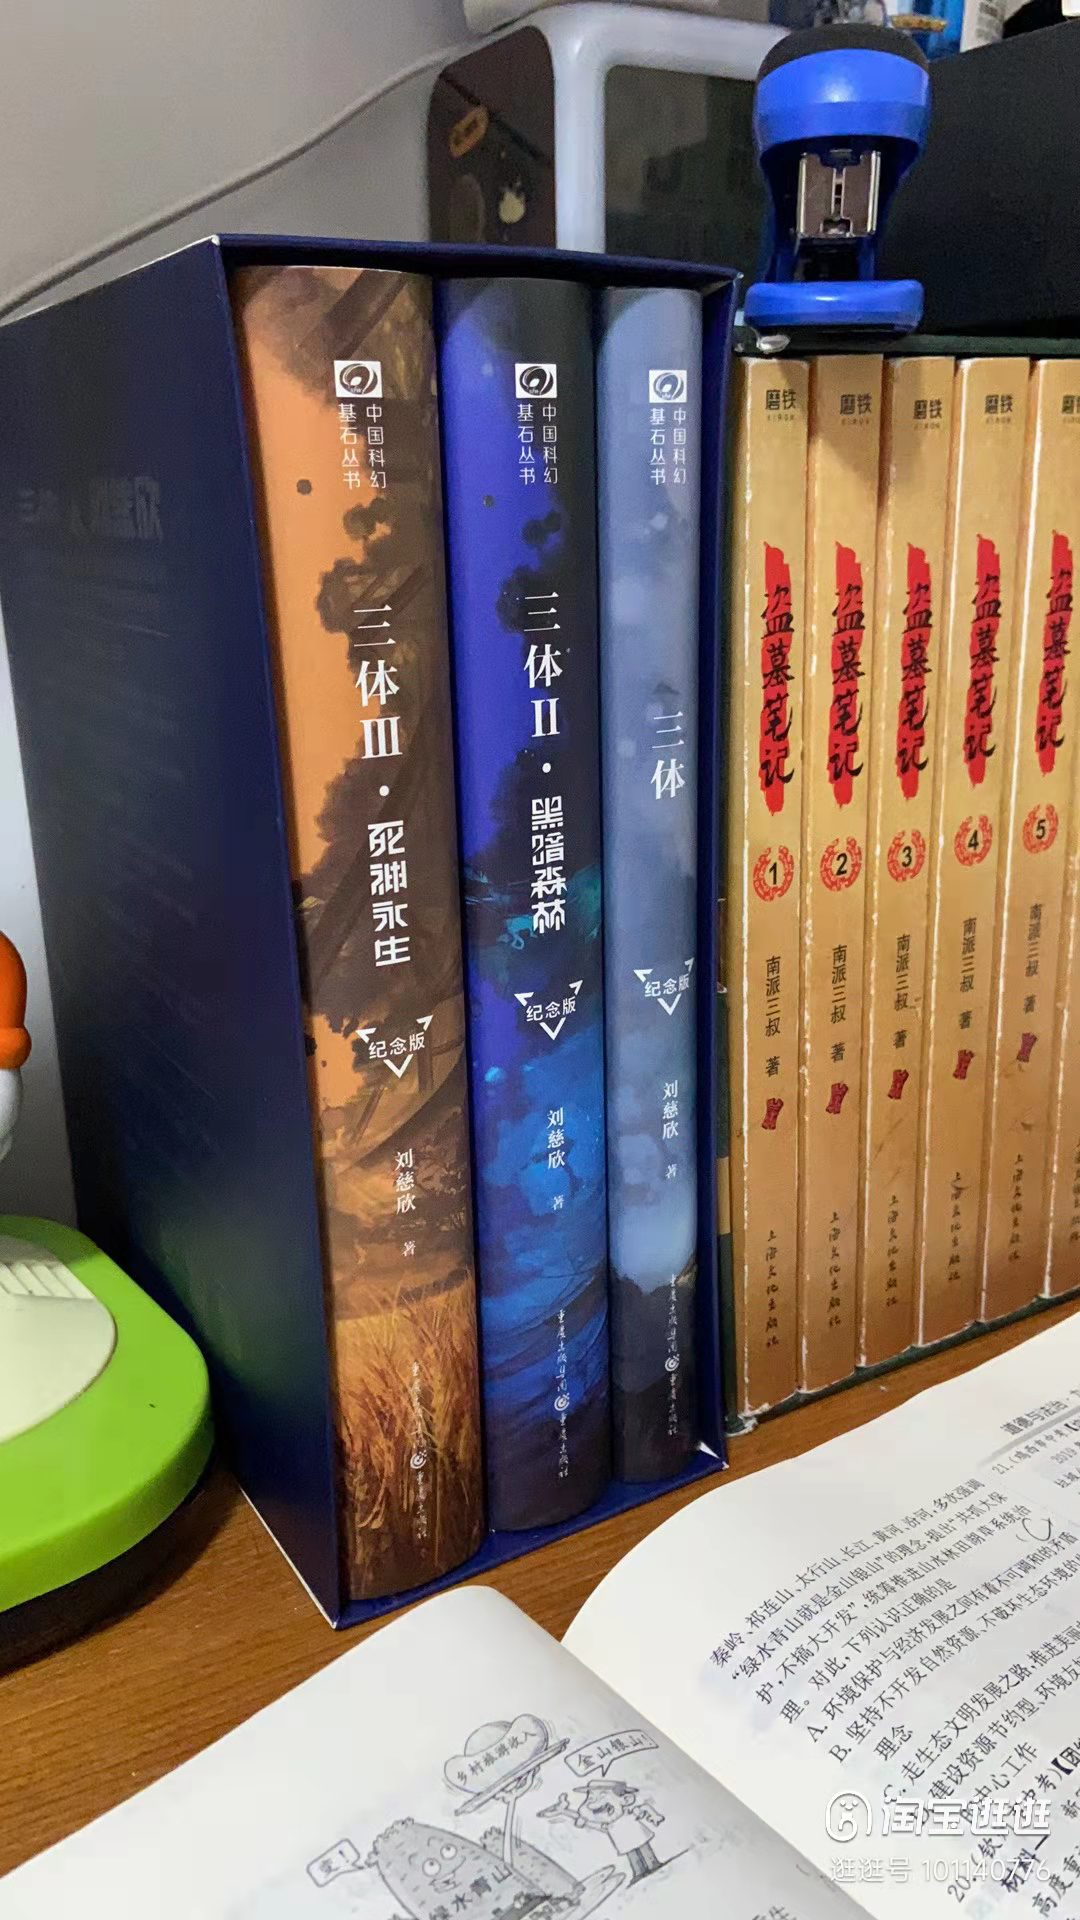book: (224, 266, 487, 1618), (429, 262, 622, 1564), (568, 273, 709, 1489), (702, 338, 803, 1431), (781, 342, 878, 1424), (882, 352, 972, 1356), (947, 360, 1026, 1356), (1029, 352, 1076, 1320)
